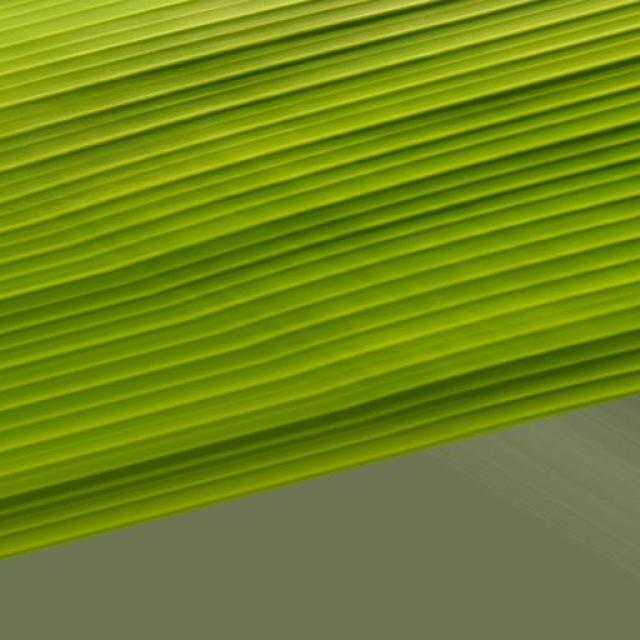Black_leaf_spot: (0, 0, 640, 487)
